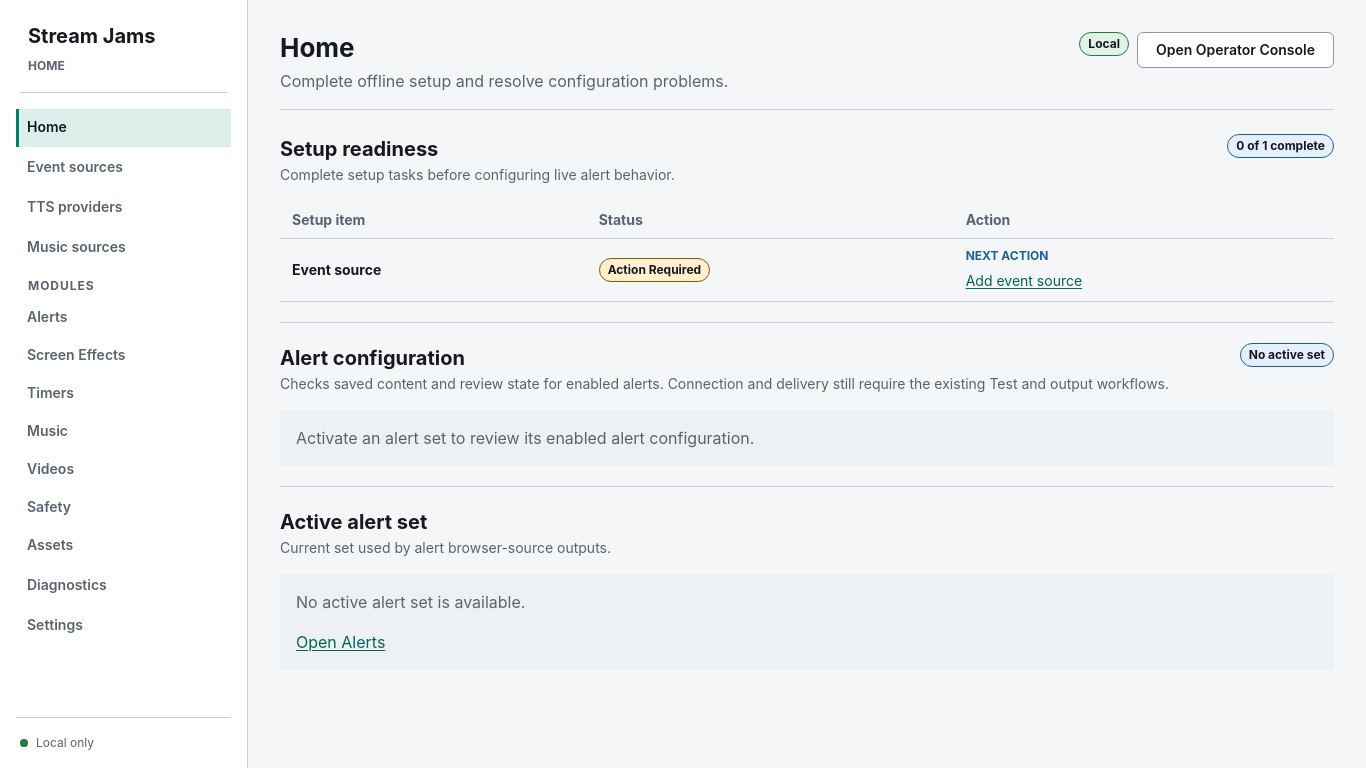
ManagementApp › uses stable sidebar links and nested Modules navigation
This screenshot has width=1366, height=768.
Click the link "Alerts" at x=47, y=316, box [27,308,68,325]
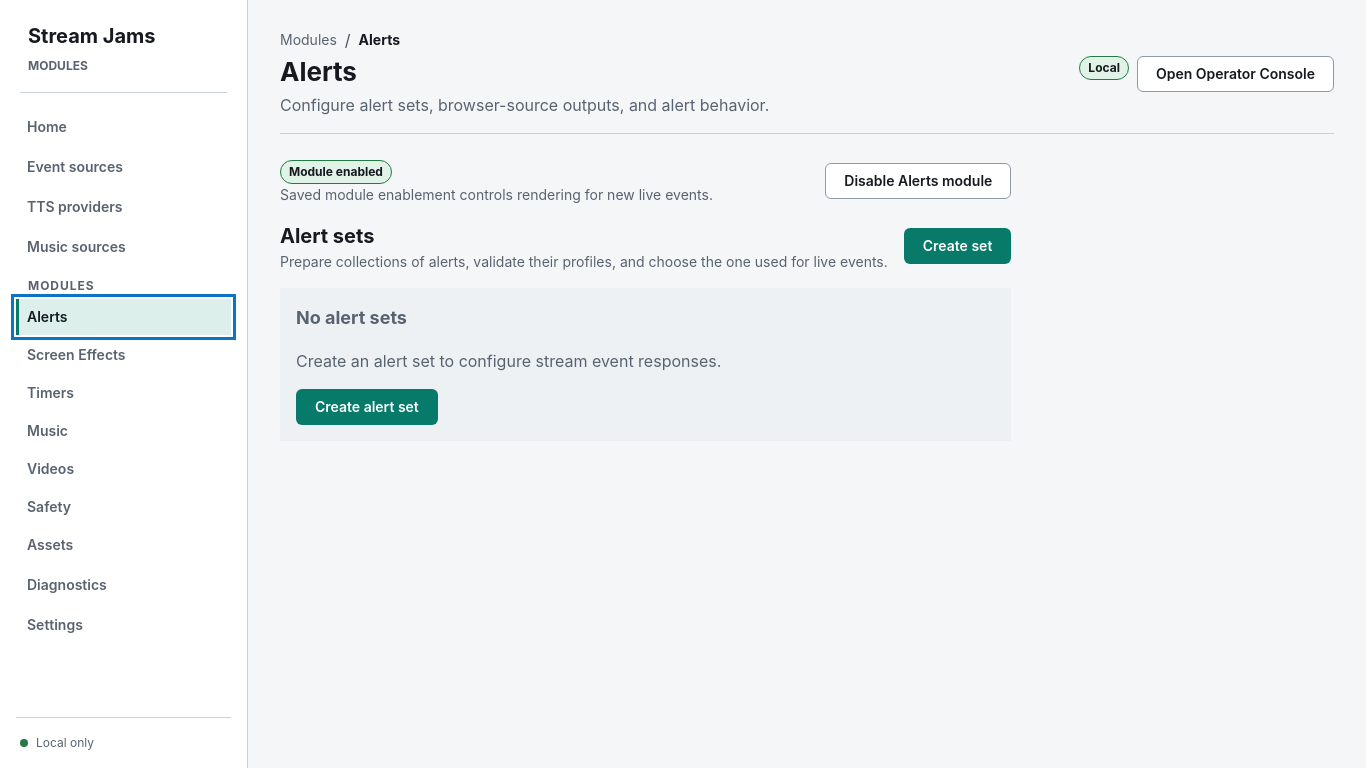
Expected: the list items read "Modules", "Alerts", in this order, [280,33,337,47]; [359,33,400,47]
